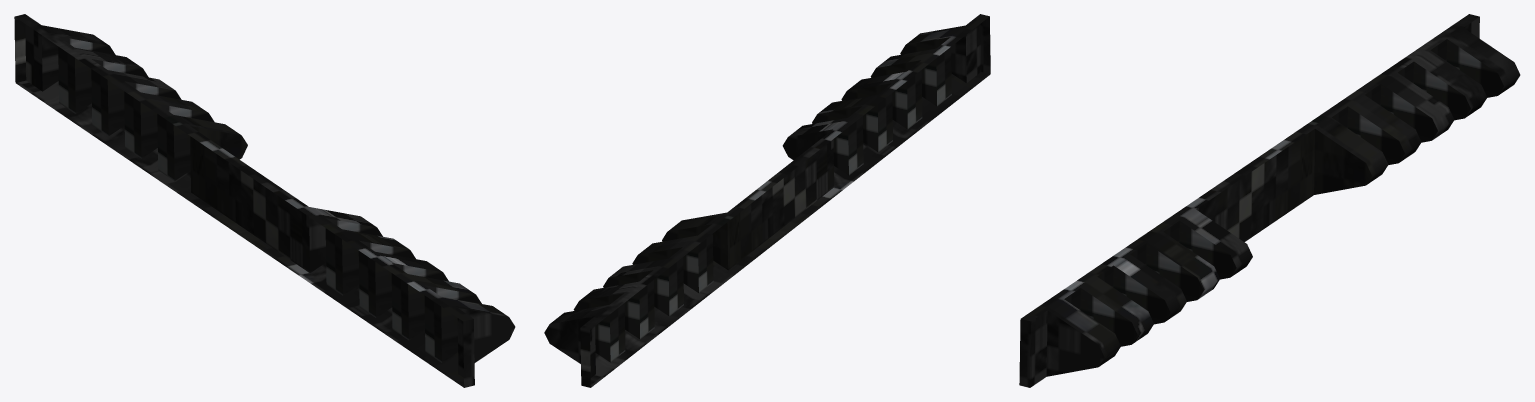
The picture shows the model from 3 angles, left to right: view 1: azimuth 30°, elevation 25°; view 2: azimuth 150°, elevation 25°; view 3: azimuth 330°, elevation 25°; orthographic projection. The views are drawn at different scales.
Parts seen in each view (by area): view 1: wingtipR_hinge_2_f35_ext_3_0; view 2: wingtipR_hinge_2_f35_ext_3_0; view 3: wingtipR_hinge_2_f35_ext_3_0.
Boxes of the visible parts, x1,y1,x2,y2 form: wingtipR_hinge_2_f35_ext_3_0: (14, 14, 515, 387); wingtipR_hinge_2_f35_ext_3_0: (544, 14, 990, 387); wingtipR_hinge_2_f35_ext_3_0: (1019, 14, 1520, 387).
Bounding box in the file's own units: 9.42 × 11.78 × 108.
Materials: 1 (1 with a texture image).
